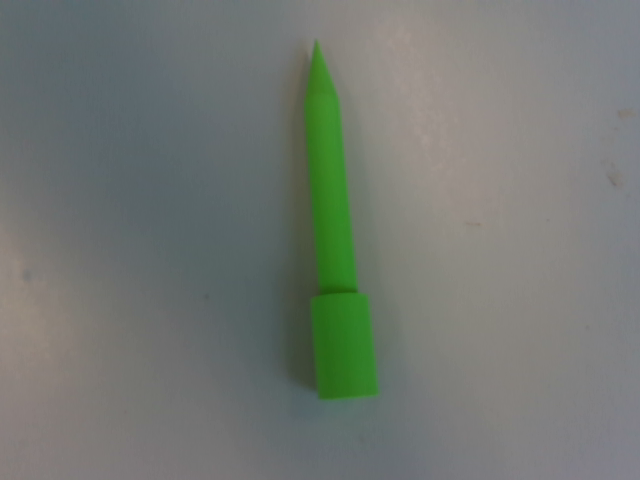Probe: (296, 32, 388, 411)
